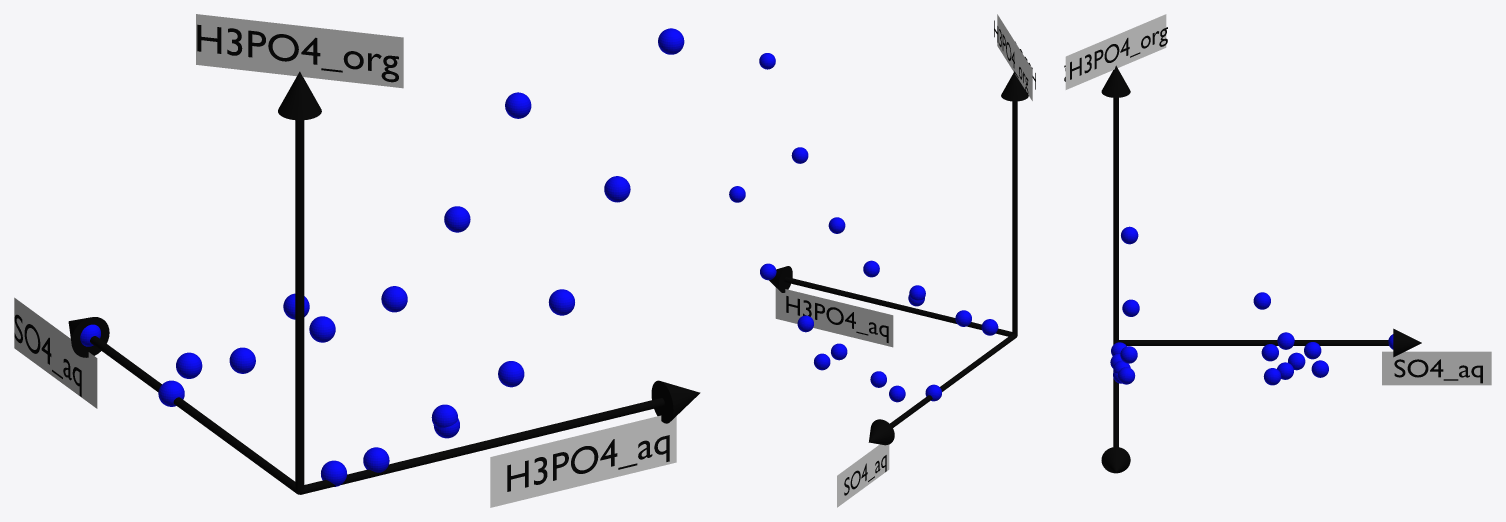
The model's file is LLC washing 130823 H3PO4_org.glb.
3 views of the same model, side by side, from view 1: azimuth 30°, elevation 25°; view 2: azimuth 150°, elevation 25°; view 3: azimuth 270°, elevation 25° (orthographic). The views are drawn at different scales.
Visible parts, largest first — view 1: Plane.005, Plane.003, Plane.004, Z-axis.001, X-axis.001, Y-axis.001, Z.003, X.003, Z-arrow.001, X-arrow.001, Y-arrow.001; view 2: Plane.003, Plane.004, Z-axis.001, X-axis.001, Plane.005, Y-axis.001, X.002, Y-arrow.001, Z-arrow.001, X-arrow.001; view 3: Plane.004, Plane.005, Z-axis.001, Y-axis.001, Z.002, X-arrow.001, Y.002, Z-arrow.001.
Boxes of the visible parts, bbox=[...] form: Plane.005: bbox=[196, 14, 403, 88]; Plane.003: bbox=[490, 415, 676, 507]; Plane.004: bbox=[14, 297, 97, 408]; Z-axis.001: bbox=[295, 120, 304, 492]; X-axis.001: bbox=[300, 398, 664, 494]; Y-axis.001: bbox=[90, 336, 299, 494]; Z.003: bbox=[197, 24, 398, 82]; X.003: bbox=[507, 435, 669, 491]; Z-arrow.001: bbox=[278, 71, 321, 120]; X-arrow.001: bbox=[651, 380, 700, 423]; Y-arrow.001: bbox=[68, 317, 109, 357]; Plane.003: bbox=[775, 287, 893, 347]; Plane.004: bbox=[837, 444, 889, 507]; Z-axis.001: bbox=[1012, 101, 1017, 335]; X-axis.001: bbox=[784, 277, 1012, 336]; Plane.005: bbox=[997, 14, 1032, 100]; Y-axis.001: bbox=[890, 334, 1017, 427]; X.002: bbox=[786, 296, 888, 342]; Y-arrow.001: bbox=[868, 419, 894, 445]; Z-arrow.001: bbox=[1001, 71, 1028, 101]; X-arrow.001: bbox=[769, 266, 792, 292]; Plane.004: bbox=[1382, 351, 1491, 385]; Plane.005: bbox=[1065, 14, 1166, 89]; Z-axis.001: bbox=[1113, 98, 1118, 341]; Y-axis.001: bbox=[1118, 340, 1388, 345]; Z.002: bbox=[1070, 27, 1167, 79]; X-arrow.001: bbox=[1101, 447, 1130, 473]; Y.002: bbox=[1394, 359, 1482, 383]; Z-arrow.001: bbox=[1101, 65, 1130, 97].
Bounding box in the file's own units: 1.23 × 1.33 × 1.46.
